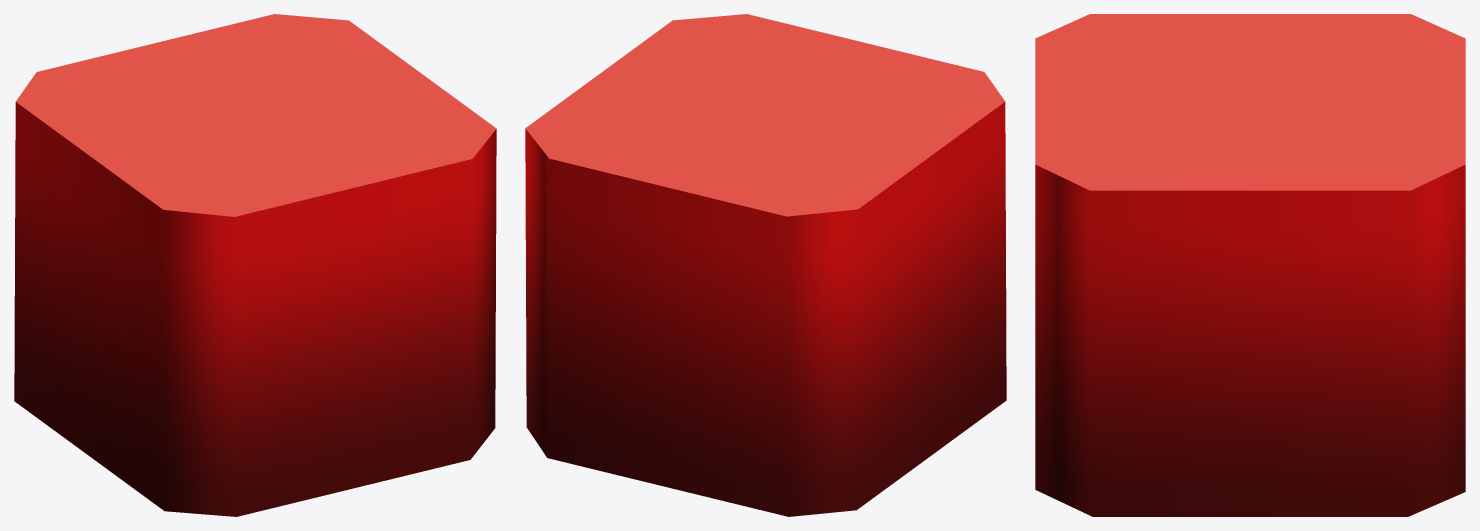
The model's file is Potion_F_L_Liquid.fbx.
3 renders of one model, left to right at view 1: azimuth 30°, elevation 25°; view 2: azimuth 150°, elevation 25°; view 3: azimuth 270°, elevation 25°, orthographic. The views are drawn at different scales.
Visible parts, largest first — view 1: Potion_F_L_Liquid; view 2: Potion_F_L_Liquid; view 3: Potion_F_L_Liquid.
Boxes of the visible parts, box(x1,y1,x2,y2) form: Potion_F_L_Liquid: box(14, 14, 496, 516); Potion_F_L_Liquid: box(525, 14, 1006, 516); Potion_F_L_Liquid: box(1035, 14, 1465, 516).
Bounding box in the file's own units: 47.28 × 40.74 × 48.65.
